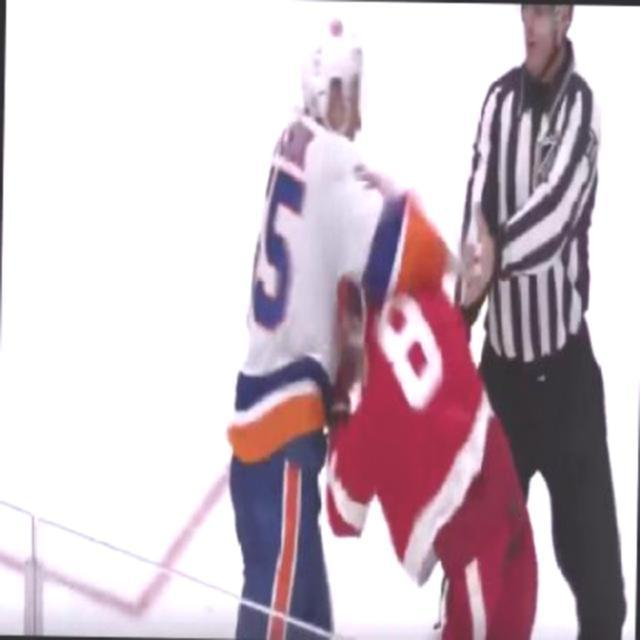fight: (224, 6, 540, 639)
